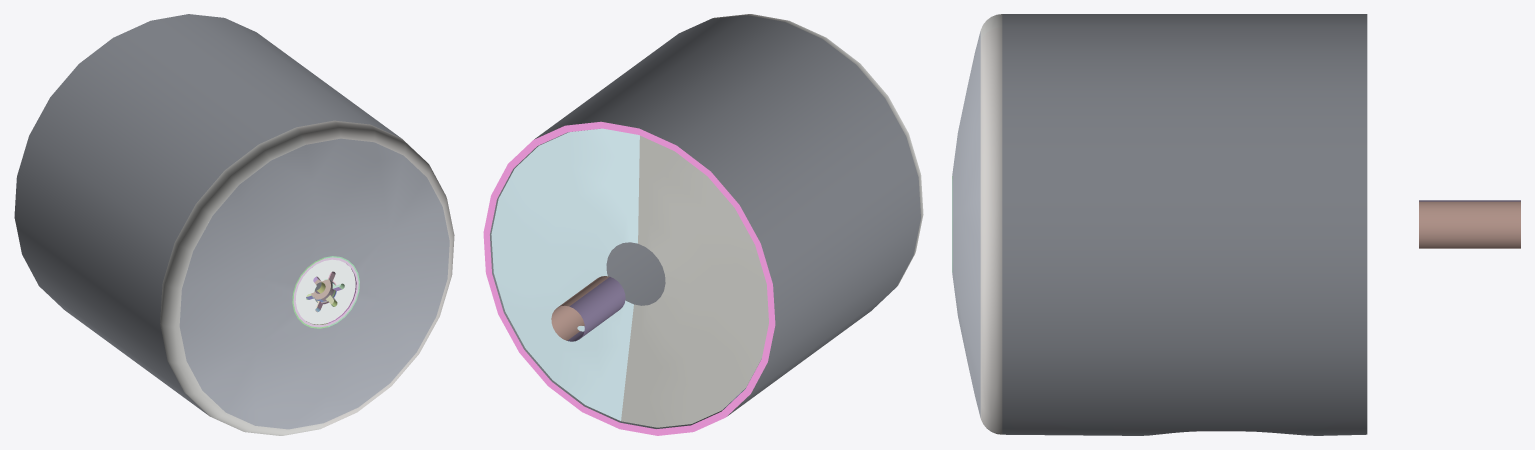
The model's file is velodyne_32.dae.
The picture shows the model from 3 angles, left to right: view 1: azimuth 30°, elevation 25°; view 2: azimuth 150°, elevation 25°; view 3: azimuth 270°, elevation 25°; orthographic projection. The views are drawn at different scales.
Visible parts, largest first — view 1: velodyne_32E_sensorbody; view 2: velodyne_32E_sensorbody; view 3: velodyne_32E_sensorbody.
Boxes of the visible parts, left/top/right/bottom form: velodyne_32E_sensorbody: left=14, top=14, right=454, bottom=435; velodyne_32E_sensorbody: left=483, top=14, right=923, bottom=435; velodyne_32E_sensorbody: left=952, top=14, right=1520, bottom=435.
Size of the model in its own units: 0.0851 by 0.0852 by 0.1147.
